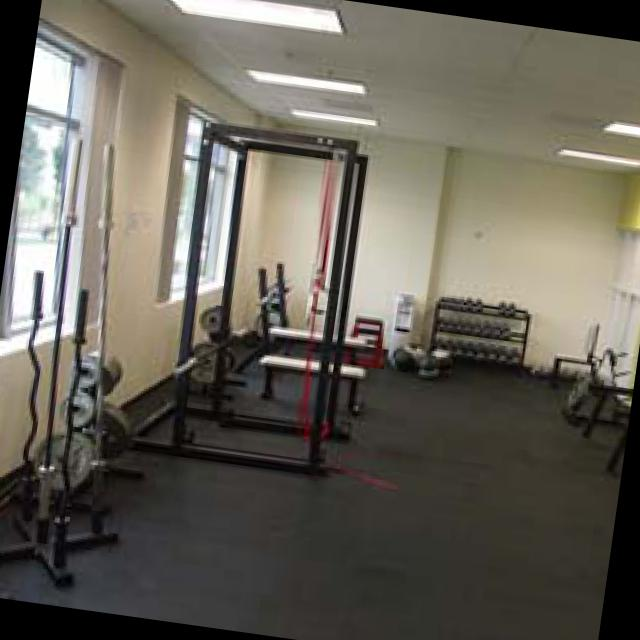2001: (0, 29, 89, 335), (159, 93, 238, 300)
bar stool: (89, 142, 112, 527)
bench crop: (256, 350, 361, 408)
bench seating: (268, 321, 361, 360)
ceiling beam: (106, 0, 640, 173)
dumbells: (429, 295, 528, 371)
exercise machine occluded: (123, 119, 366, 471)
floor -X: (0, 337, 628, 640)
lamp crop: (169, 0, 345, 33), (242, 64, 364, 94), (556, 147, 640, 165), (289, 106, 375, 123)
lamp occluded: (602, 119, 640, 137)
wall clock: (239, 114, 621, 378), (592, 170, 640, 406)
weights: (33, 345, 129, 488)
